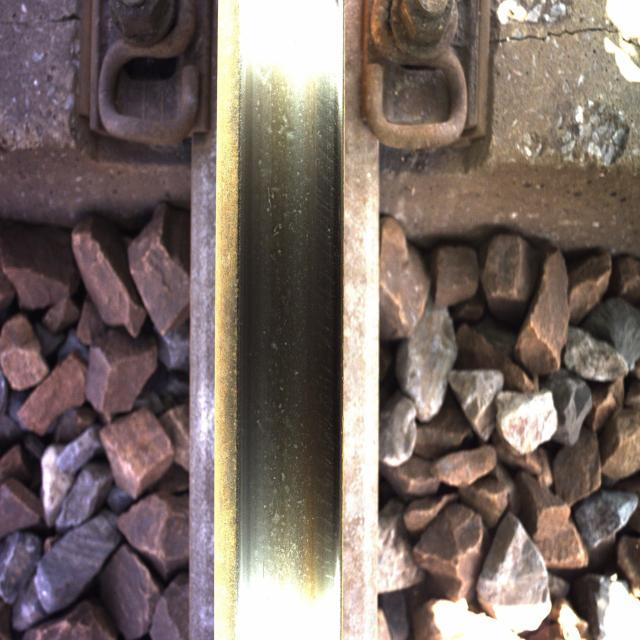crack: (244, 53, 326, 612)
